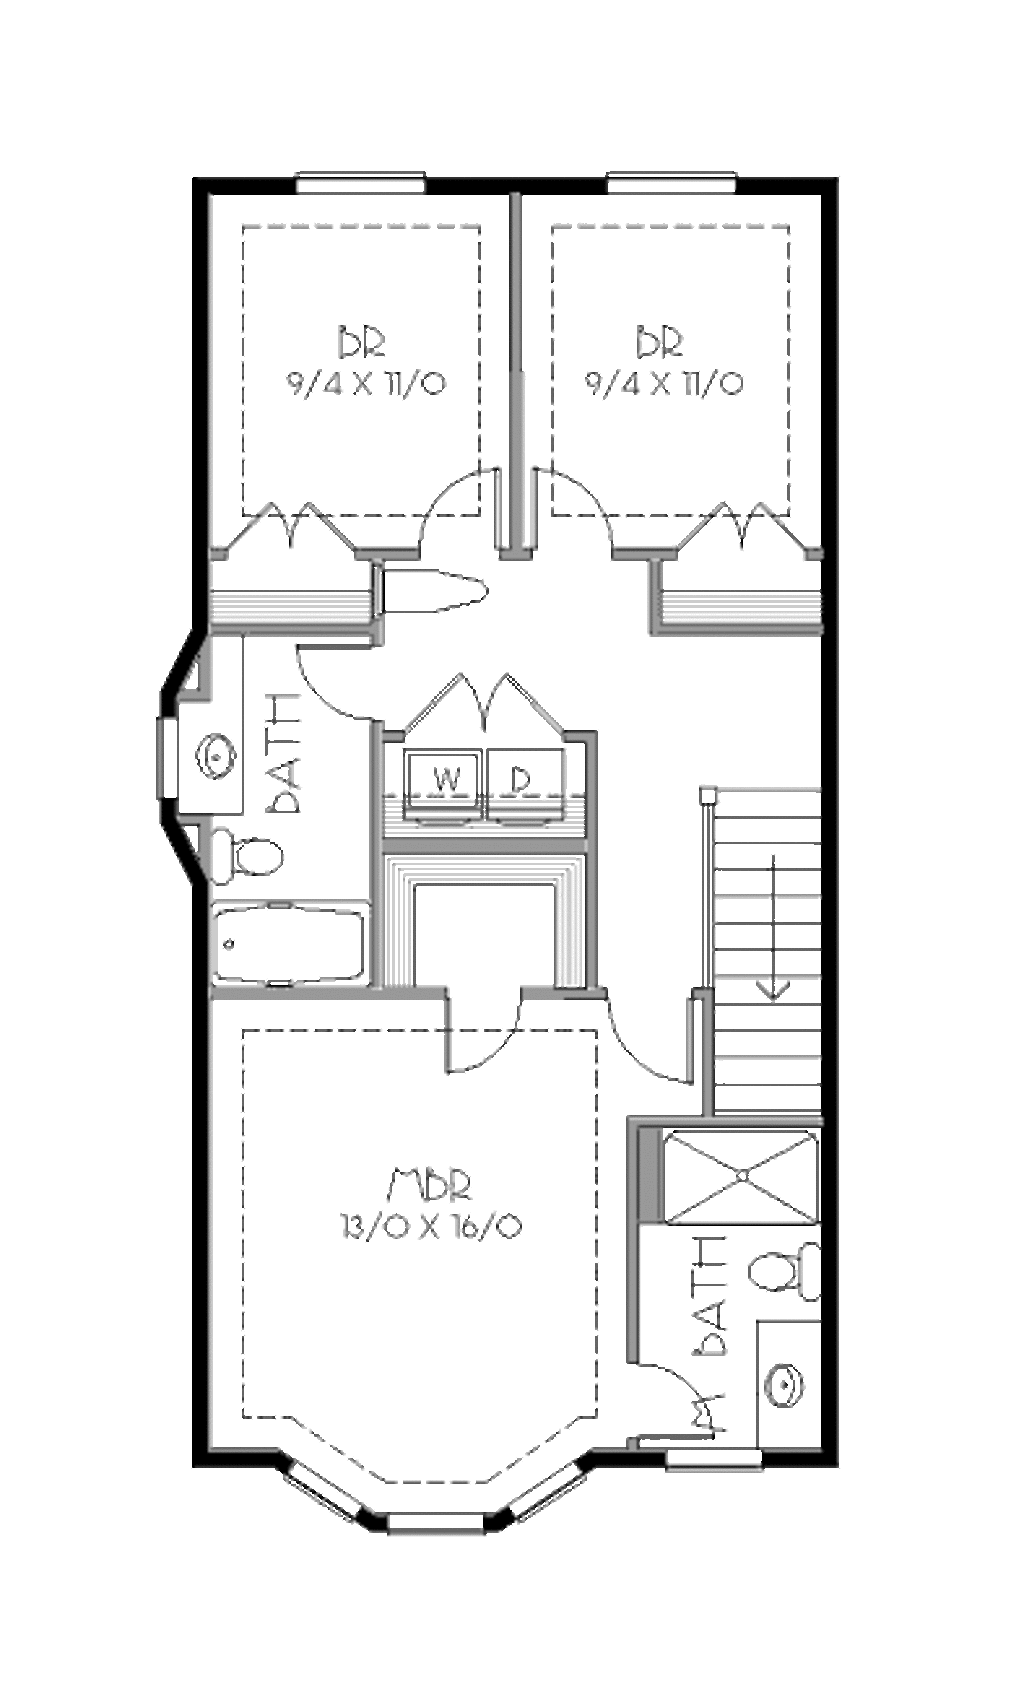door: (589, 974, 718, 1098), (655, 474, 804, 566), (526, 452, 631, 569), (207, 487, 355, 569), (279, 621, 384, 729), (397, 671, 542, 742), (439, 974, 531, 1085), (624, 1348, 722, 1445), (426, 448, 510, 555)
large_sink: (207, 822, 294, 882), (742, 1240, 823, 1301)
small_sink: (747, 1329, 826, 1450), (176, 711, 261, 816)
stairs: (700, 791, 865, 1126)
tub: (205, 876, 390, 992)
window: (281, 1461, 584, 1537), (599, 166, 737, 203), (283, 169, 431, 203), (152, 705, 187, 803)
